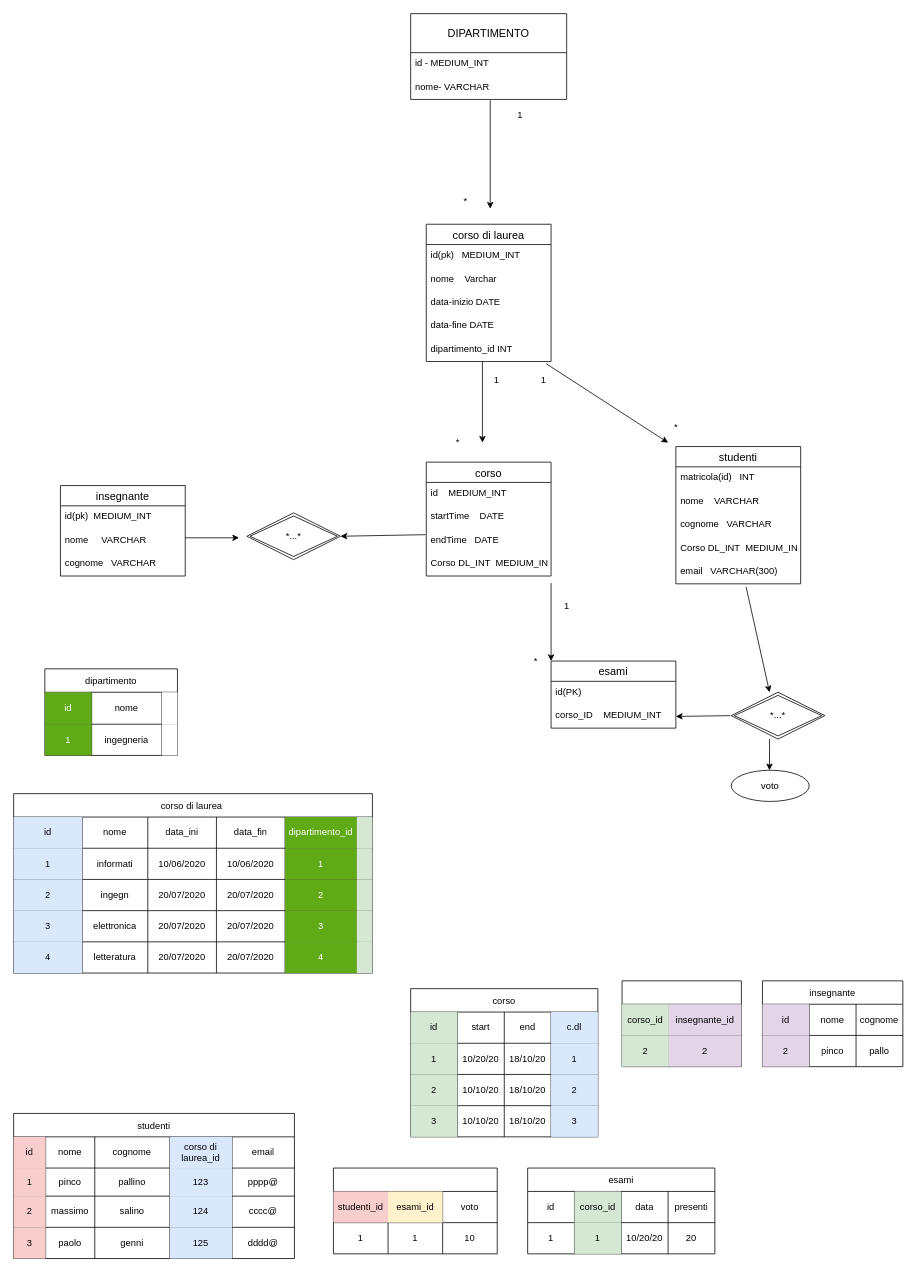
The diagram is 916 pixels wide and 1272 high, and some of its shapes have lost their labels. Here are the shapes that lost their labels. From the top down, the box of each, then its label:
(621, 980, 741, 1067): corso_insegnante
(333, 1167, 497, 1254): studenti_esami
